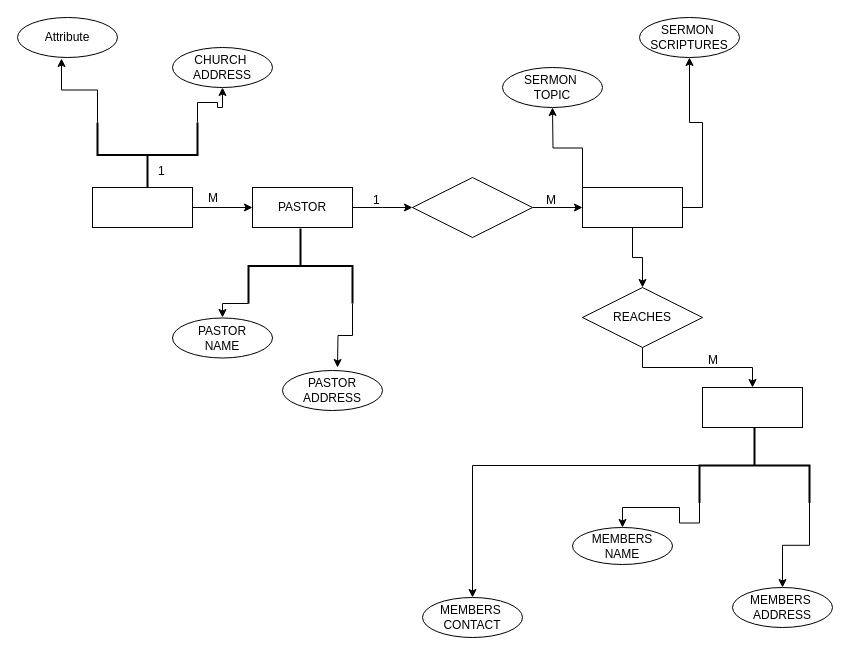
The diagram is 850 pixels wide and 655 high, and some of its shapes have lost their labels. Here are the shapes that lost their labels. From the top down, the centre of each, then its label:
pixel 142 207: CHURCH
pixel 472 207: PREACHES
pixel 632 207: SERMON
pixel 752 407: MEMBERS
